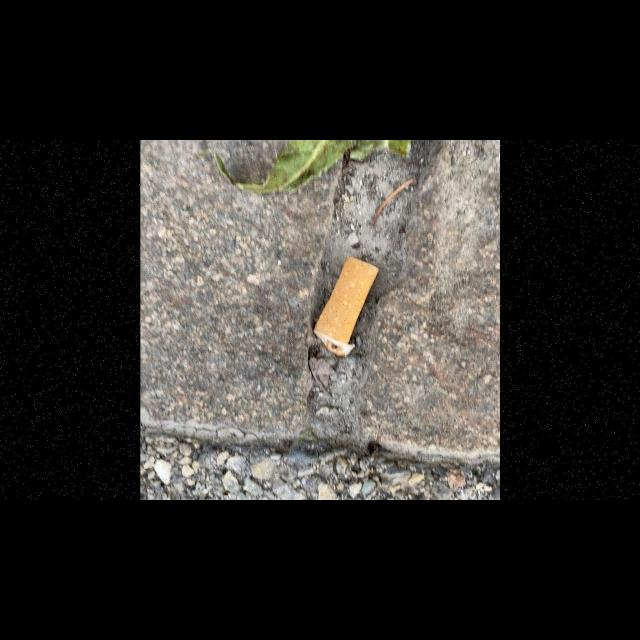cigarette: (312, 255, 379, 358)
